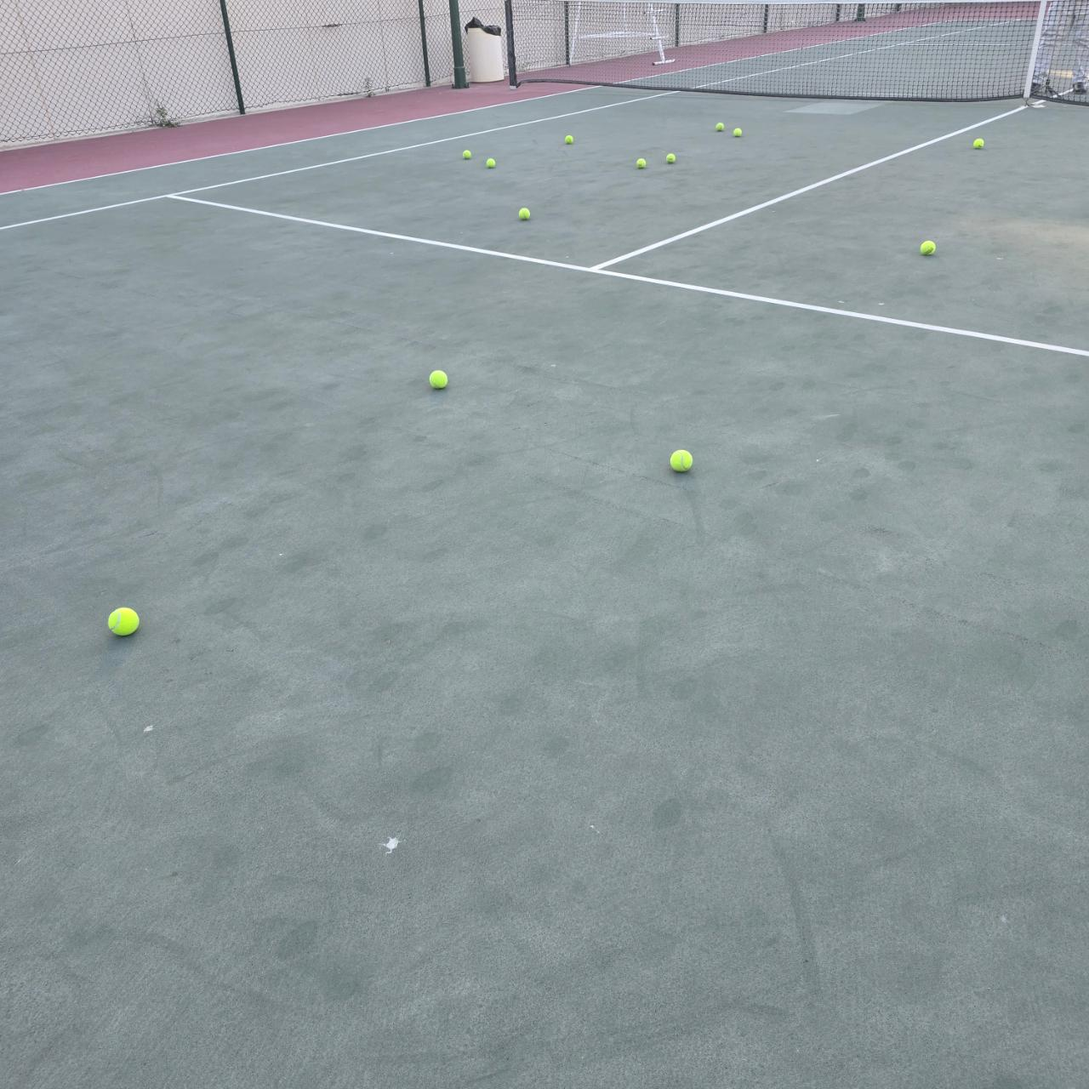tennis-ball: (106, 604, 140, 636), (668, 447, 693, 472), (427, 368, 448, 389), (920, 240, 936, 256), (518, 207, 530, 219), (635, 157, 647, 168), (973, 138, 984, 149), (461, 149, 472, 160), (486, 157, 496, 168), (666, 153, 676, 163), (565, 134, 574, 144), (733, 128, 743, 137), (715, 122, 724, 132)
